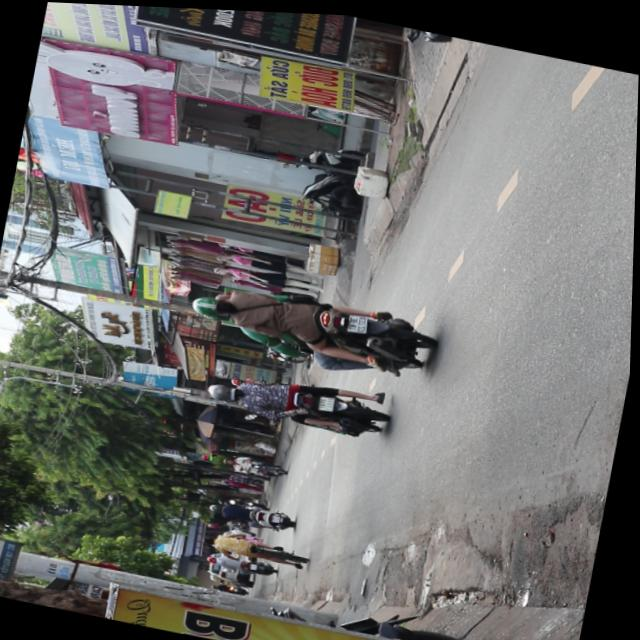helmet: (189, 289, 229, 318), (208, 379, 240, 400)
licenseplate: (183, 268, 443, 384), (203, 356, 396, 441)
nohelmet: (347, 310, 370, 331), (319, 392, 335, 409)
